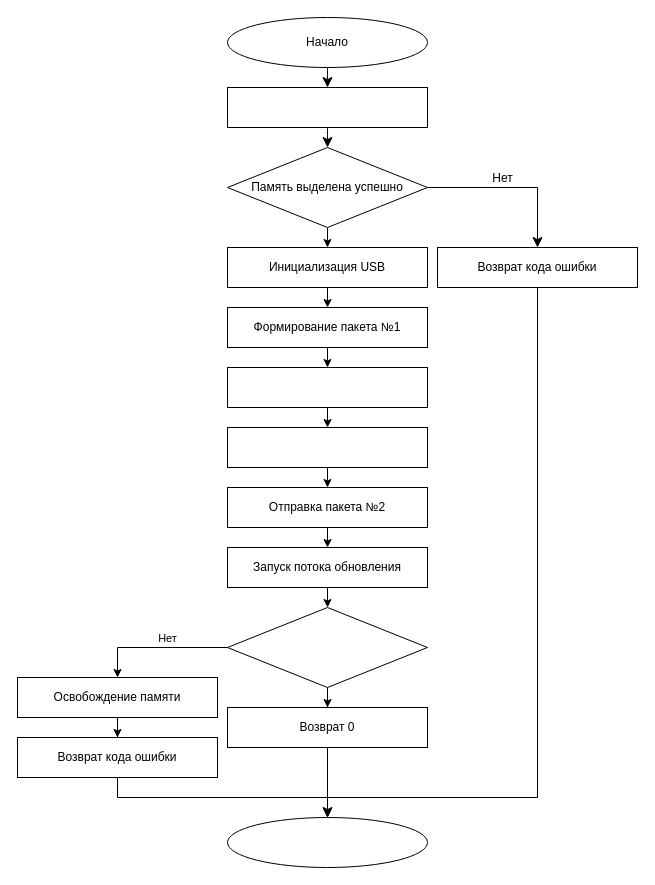
This 655x885 diagram has some shape labels left out. Each missing label, with the centre of its shape:
"Выделение памяти под структуру устройства" belongs at pixel 327 107.
"Конец" belongs at pixel 327 842.
"Отправка пакета №1" belongs at pixel 327 387.
"Поток создан успешно" belongs at pixel 327 647.
"Формирование пакета №2" belongs at pixel 327 447.
